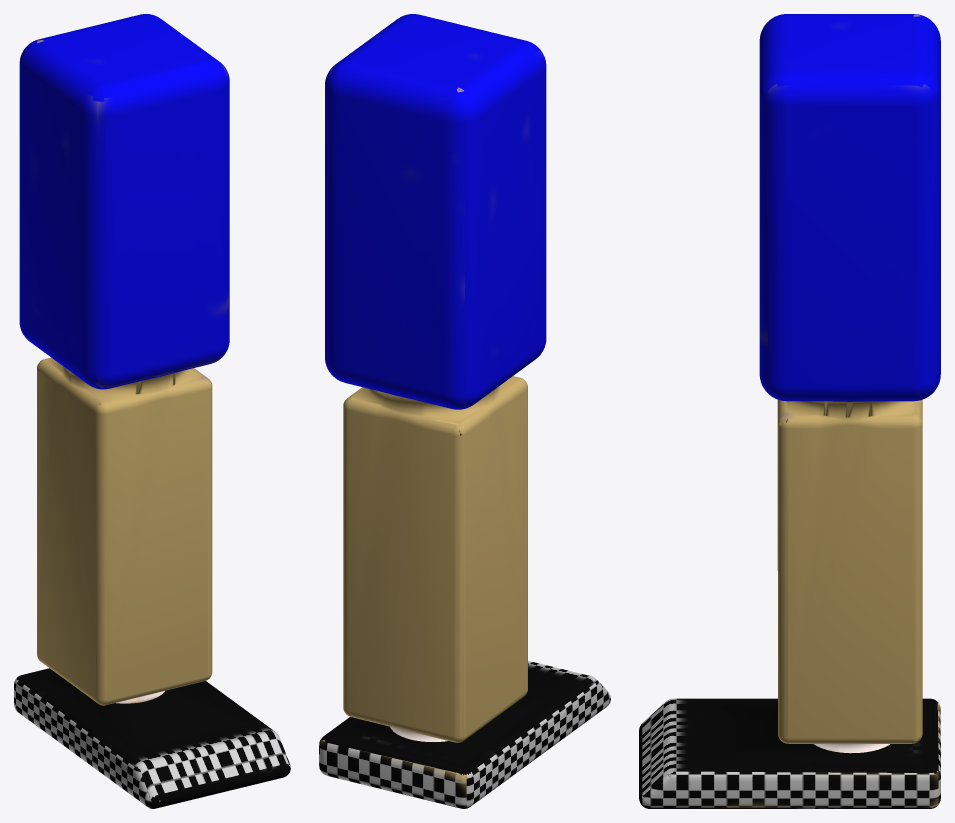
File: LegSat.dae
3 views of the same model, side by side, from view 1: azimuth 30°, elevation 25°; view 2: azimuth 150°, elevation 25°; view 3: azimuth 270°, elevation 25° (orthographic). The views are drawn at different scales.
Visible parts, largest first — view 1: node_bd247027_0266_473d_84e1_17b638af2282_mesh0; view 2: node_bd247027_0266_473d_84e1_17b638af2282_mesh0; view 3: node_bd247027_0266_473d_84e1_17b638af2282_mesh0.
Boxes of the visible parts, <box> form: node_bd247027_0266_473d_84e1_17b638af2282_mesh0: <box>14,14,290,808</box>; node_bd247027_0266_473d_84e1_17b638af2282_mesh0: <box>319,14,610,808</box>; node_bd247027_0266_473d_84e1_17b638af2282_mesh0: <box>639,14,940,808</box>.
Size of the model in its own units: 0.2 by 0.333 by 0.89.
1 material, 1 textured.
